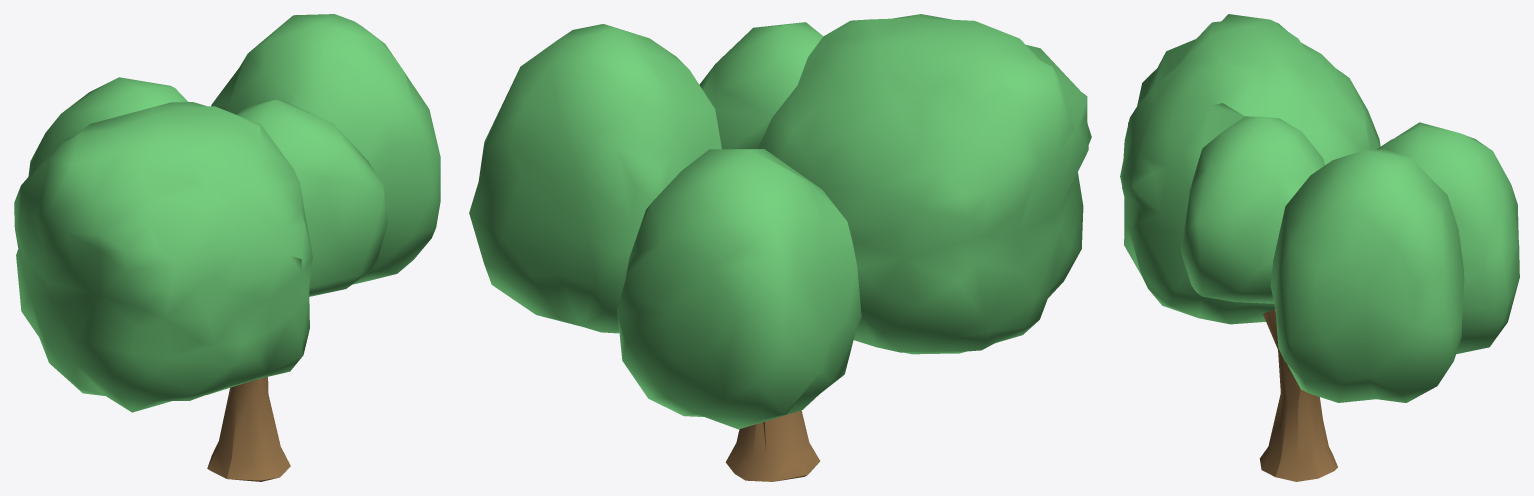
Rendered from oak3.glb.
The picture shows the model from 3 angles, left to right: view 1: azimuth 30°, elevation 25°; view 2: azimuth 150°, elevation 25°; view 3: azimuth 270°, elevation 25°; orthographic projection. The views are drawn at different scales.
Visible parts, largest first — view 1: oak_leaves_3, oak_trunk_3; view 2: oak_leaves_3, oak_trunk_3; view 3: oak_leaves_3, oak_trunk_3.
Part boxes in pixels (left/top/right/bottom): oak_leaves_3: left=14, top=14, right=440, bottom=412; oak_trunk_3: left=207, top=377, right=290, bottom=481; oak_leaves_3: left=469, top=14, right=1091, bottom=429; oak_trunk_3: left=725, top=410, right=820, bottom=481; oak_leaves_3: left=1120, top=14, right=1519, bottom=402; oak_trunk_3: left=1259, top=309, right=1337, bottom=481.
Bounding box in the file's own units: 12.17 × 10.53 × 10.33.
